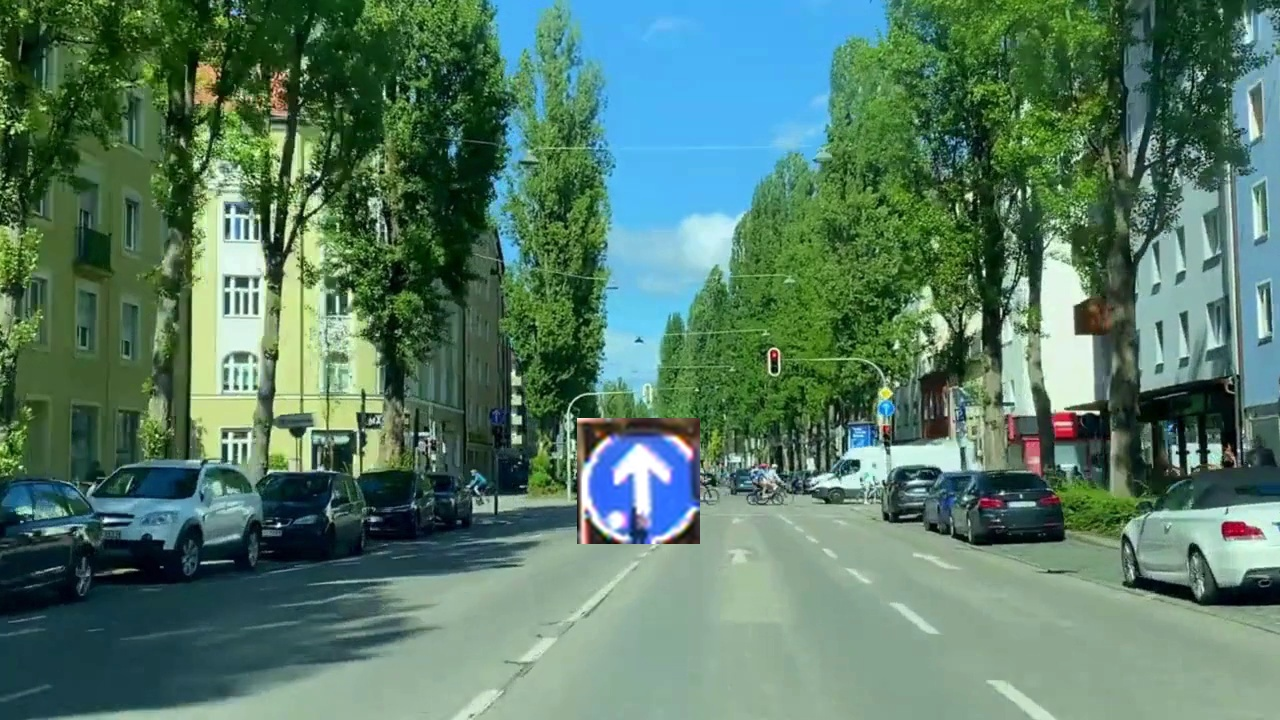Ahead only: (577, 418, 700, 544)
